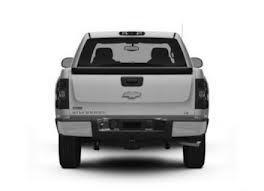car: (56, 30, 212, 172)
